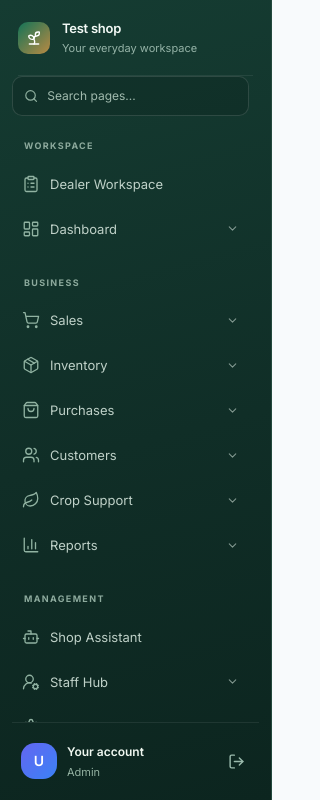
Test case: offers a recovery action when no navigation pages match
The width and height of the screenshot is (320, 800).
In the field named "Search navigation": (142, 96) [47,87,237,105], type "no-such-page"
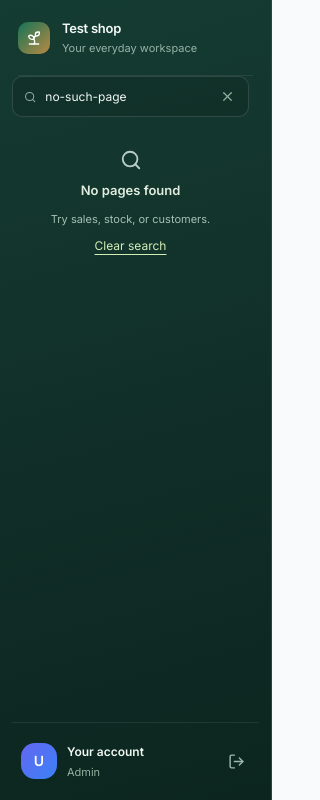
Expected: the message shows "No pages found", [81,182,180,198]
Click the button "Clear search": (131, 246) [95,237,166,255]
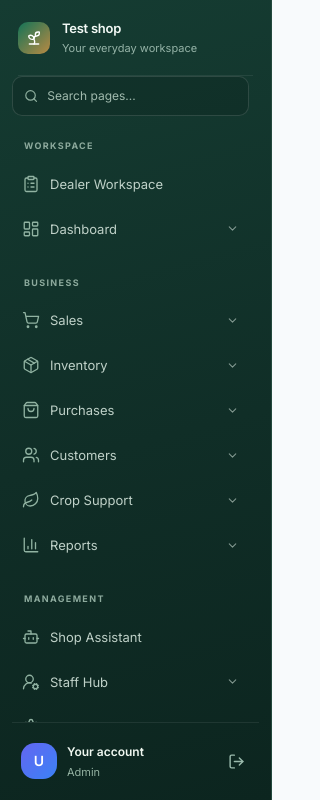
Expected: the button "Dashboard" is shown, [12,208,249,250]
